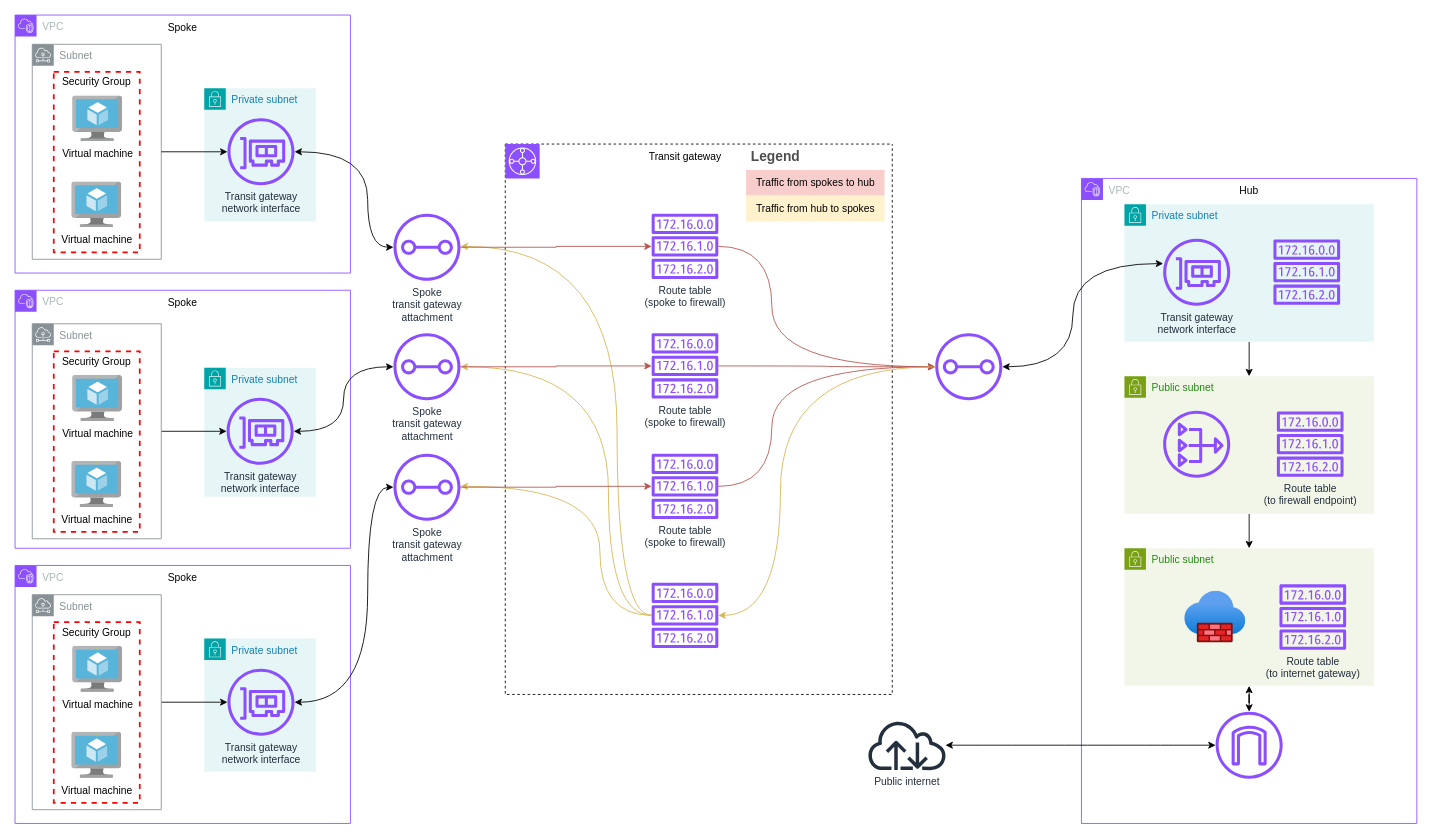
The diagram is 1432 pixels wide and 839 high, and some of its shapes have lost their labels. The shapes that lost their labels are listed below. From the top down, each one's centre as x and y in pixels, then its label:
pixel 1306 271: Route table (to NAT gateway)
pixel 968 366: Hub transit gateway attachment
pixel 1196 443: NAT gateway
pixel 684 615: Route table (firewall to spoke)
pixel 1214 616: Network firewall
pixel 1248 744: Internet gateway
